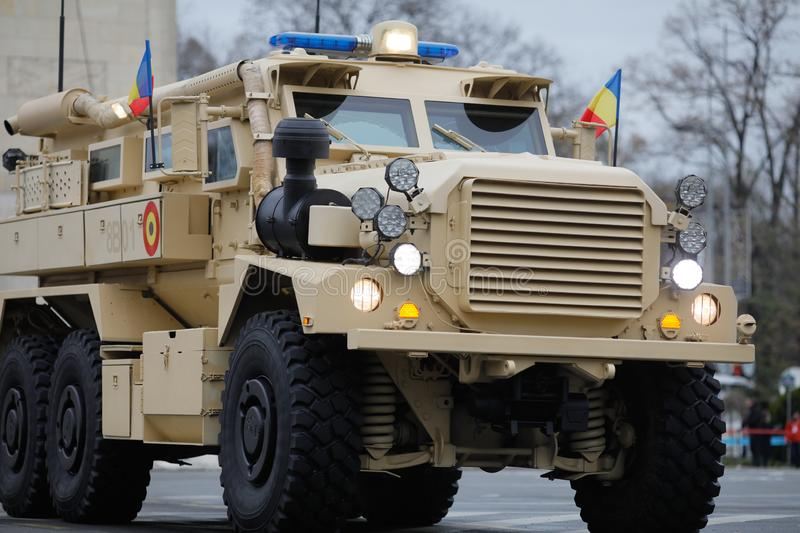camion: (8, 51, 749, 529)
